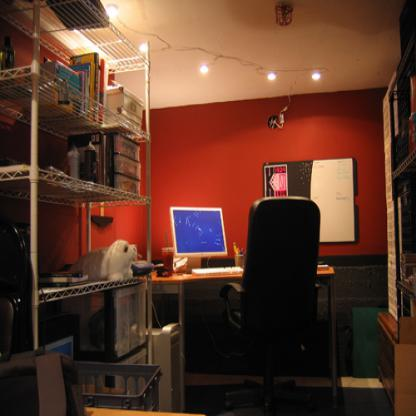chair: (218, 195, 321, 415)
tvmonitor: (168, 205, 228, 256)
